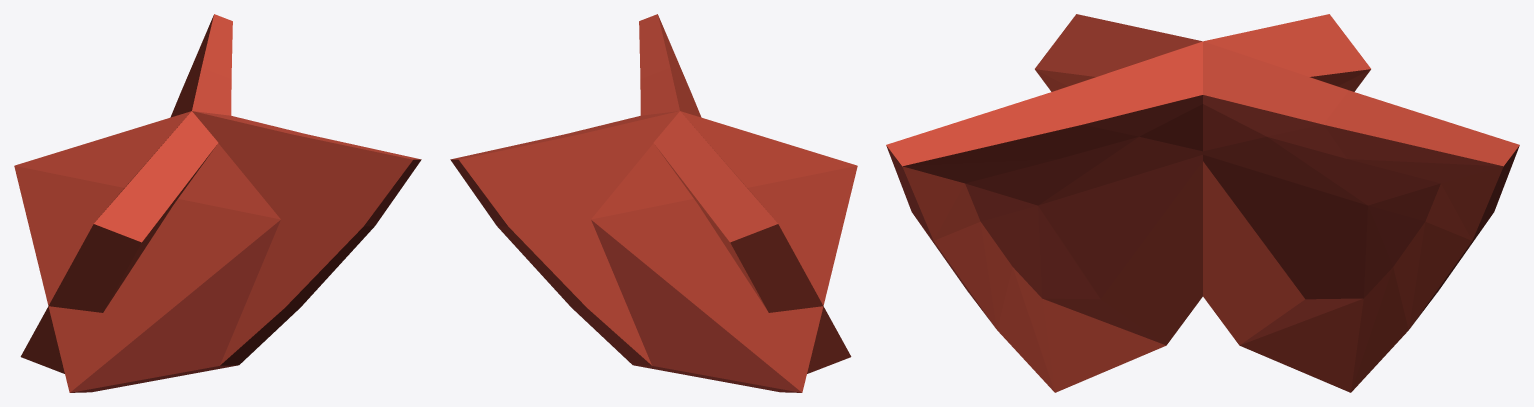
Rendered from ip_pointed.glb.
3 views of the same model, side by side, from view 1: azimuth 30°, elevation 25°; view 2: azimuth 150°, elevation 25°; view 3: azimuth 270°, elevation 25° (orthographic). The views are drawn at different scales.
Visible parts, largest first — view 1: Ear_R, Ear_L; view 2: Ear_L, Ear_R; view 3: Ear_L, Ear_R.
Part boxes in pixels (bbox=[...]): Ear_R: bbox=[14, 111, 421, 392]; Ear_L: bbox=[20, 14, 232, 373]; Ear_L: bbox=[450, 111, 857, 392]; Ear_R: bbox=[639, 14, 851, 373]; Ear_L: bbox=[1035, 14, 1519, 392]; Ear_R: bbox=[886, 14, 1370, 392].
Size of the model in its own units: 0.0565 by 0.0469 by 0.069.
Materials: 1 (1 with a texture image).
